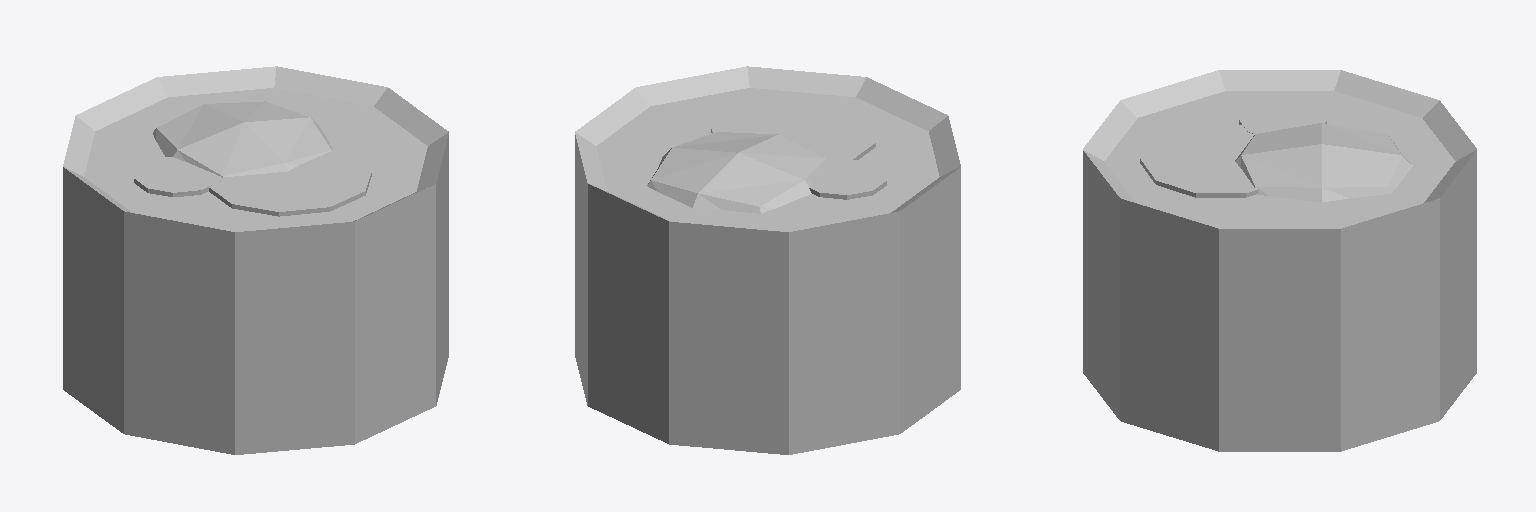
Rendered from singleSushi.obj.
3 renders of one model, left to right at view 1: azimuth 30°, elevation 25°; view 2: azimuth 150°, elevation 25°; view 3: azimuth 270°, elevation 25°, orthographic.
Parts seen in each view (by area): view 1: Sushi.001; view 2: Sushi.001; view 3: Sushi.001.
Boxes of the visible parts, box(x1,y1,x2,y2) form: Sushi.001: box(63, 66, 448, 454); Sushi.001: box(575, 66, 960, 454); Sushi.001: box(1083, 70, 1476, 451).
Size of the model in its own units: 2.14 by 1.46 by 2.25.